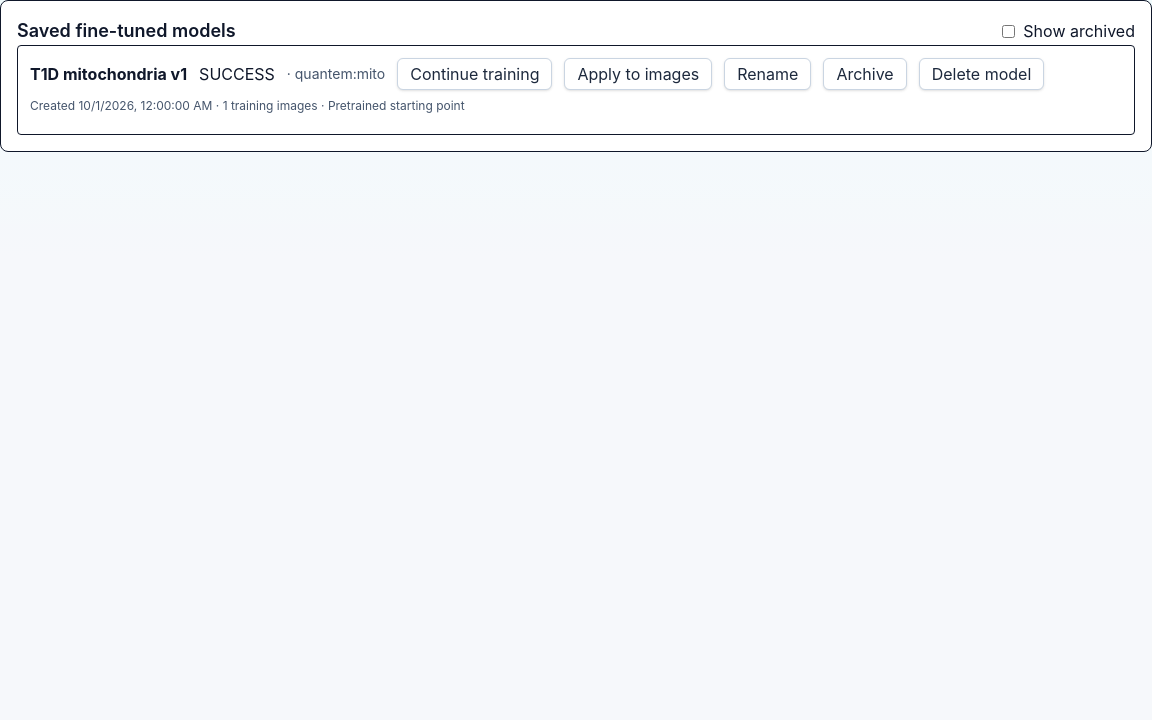
Test: keeps the model and shows a red error when deletion is blocked by an active task
Click the button "Delete model" at (982, 74), box [919,58,1044,90]
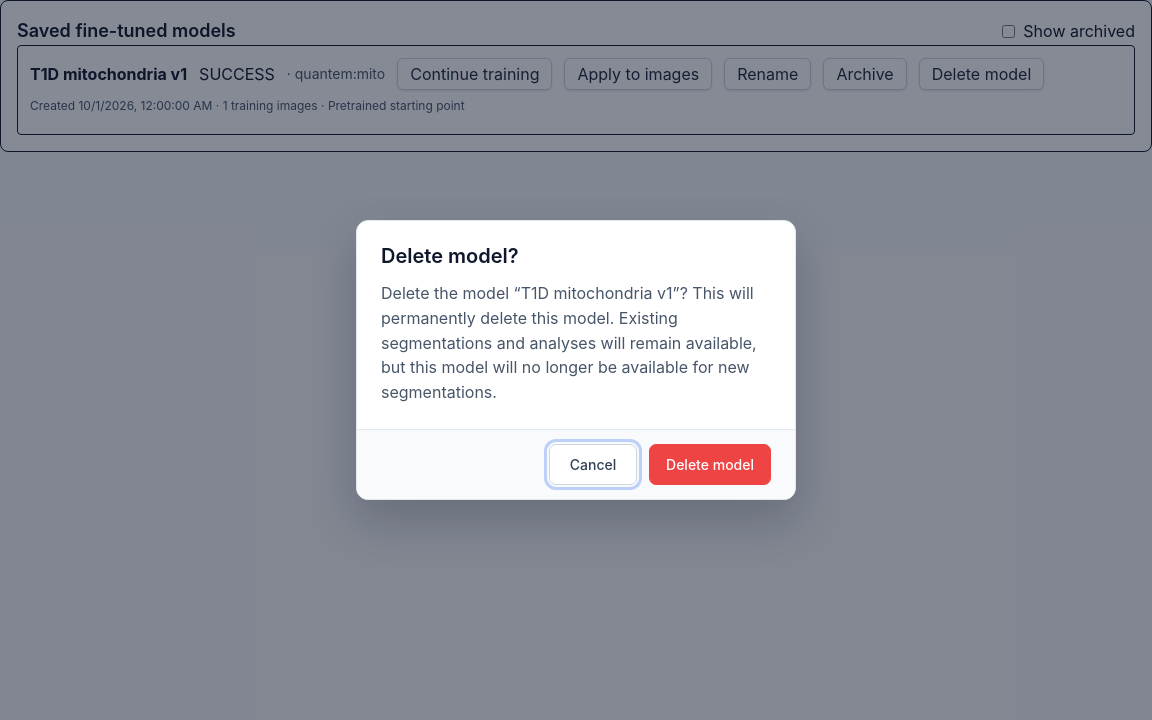
expect the dialog does not show "This model is in use by a task. Wait or cancel the task first.": met, box [356,220,796,500]
Click the button "Delete model" at (710, 464), box [649,444,771,485]
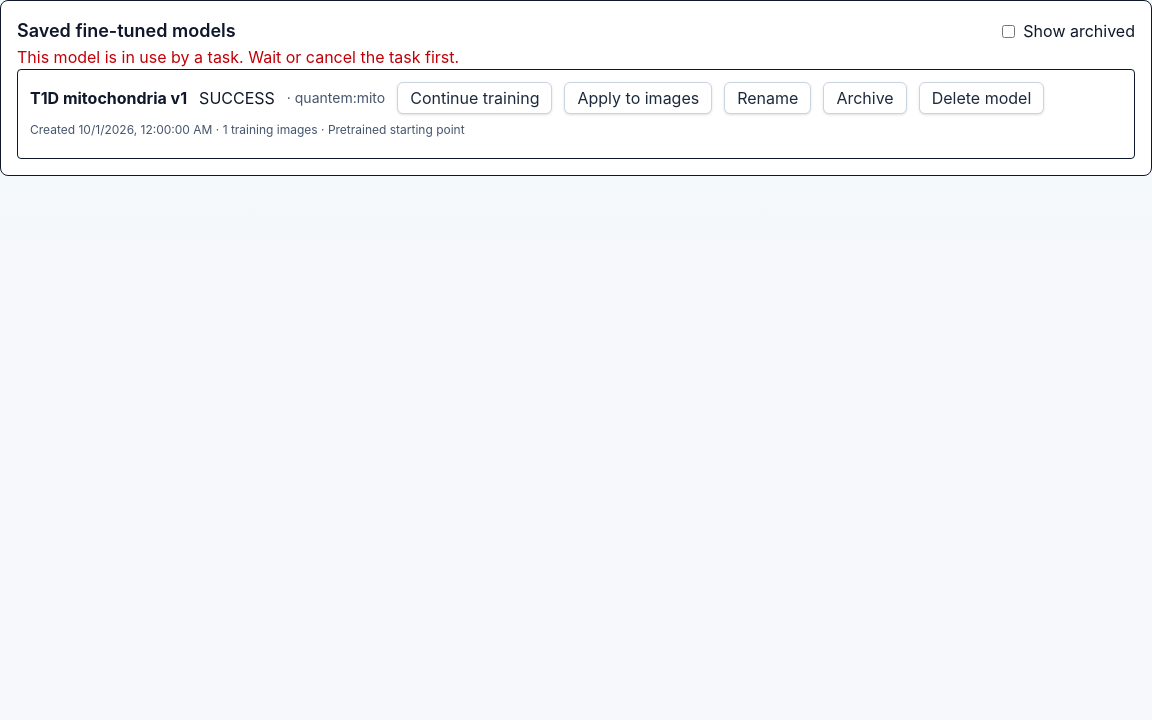
expect the text "T1D mitochondria v1" is shown: met, box [30,86,187,110]
expect the message reads "This model is in use by a task. Wait or cancel the task first.": met, box [17,47,459,67]
